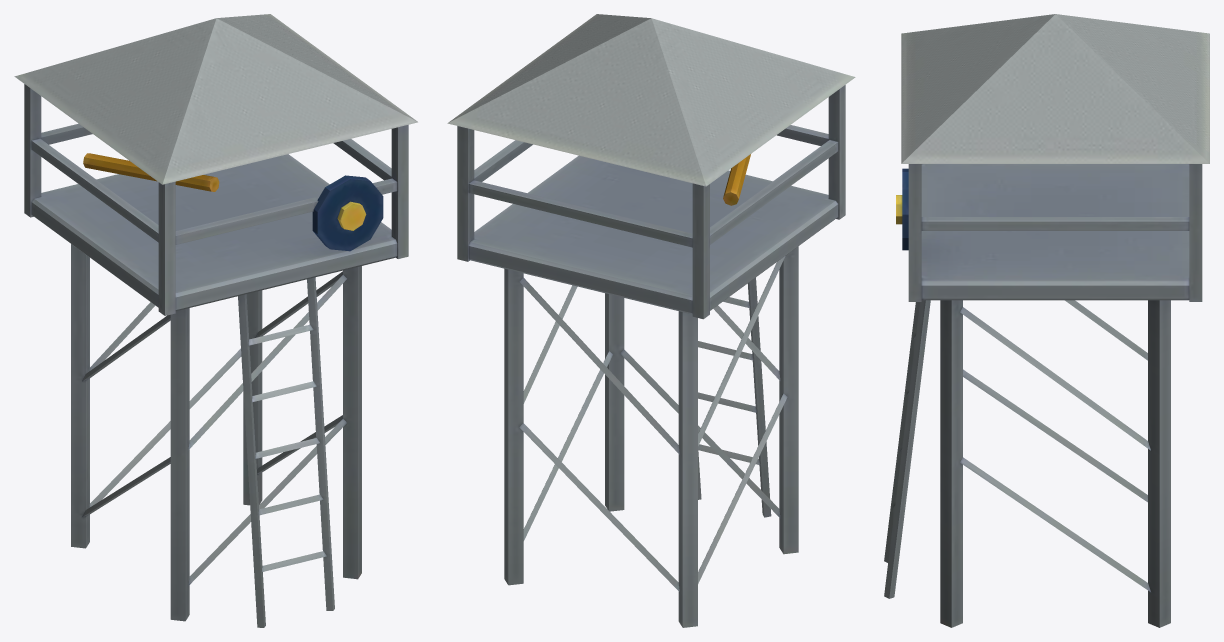
Rendered from watchtower-2-age20.glb.
The picture shows the model from 3 angles, left to right: view 1: azimuth 30°, elevation 25°; view 2: azimuth 150°, elevation 25°; view 3: azimuth 270°, elevation 25°; orthographic projection. The views are drawn at different scales.
Visible parts, largest first — view 1: watchtower-2-age20; view 2: watchtower-2-age20; view 3: watchtower-2-age20.
Boxes of the visible parts, <box> form: watchtower-2-age20: <box>14,14,417,627</box>; watchtower-2-age20: <box>447,14,855,627</box>; watchtower-2-age20: <box>884,14,1209,627</box>.
Size of the model in its own units: 0.594 by 1.2 by 0.6269.
Materials: 1 (1 with a texture image).
